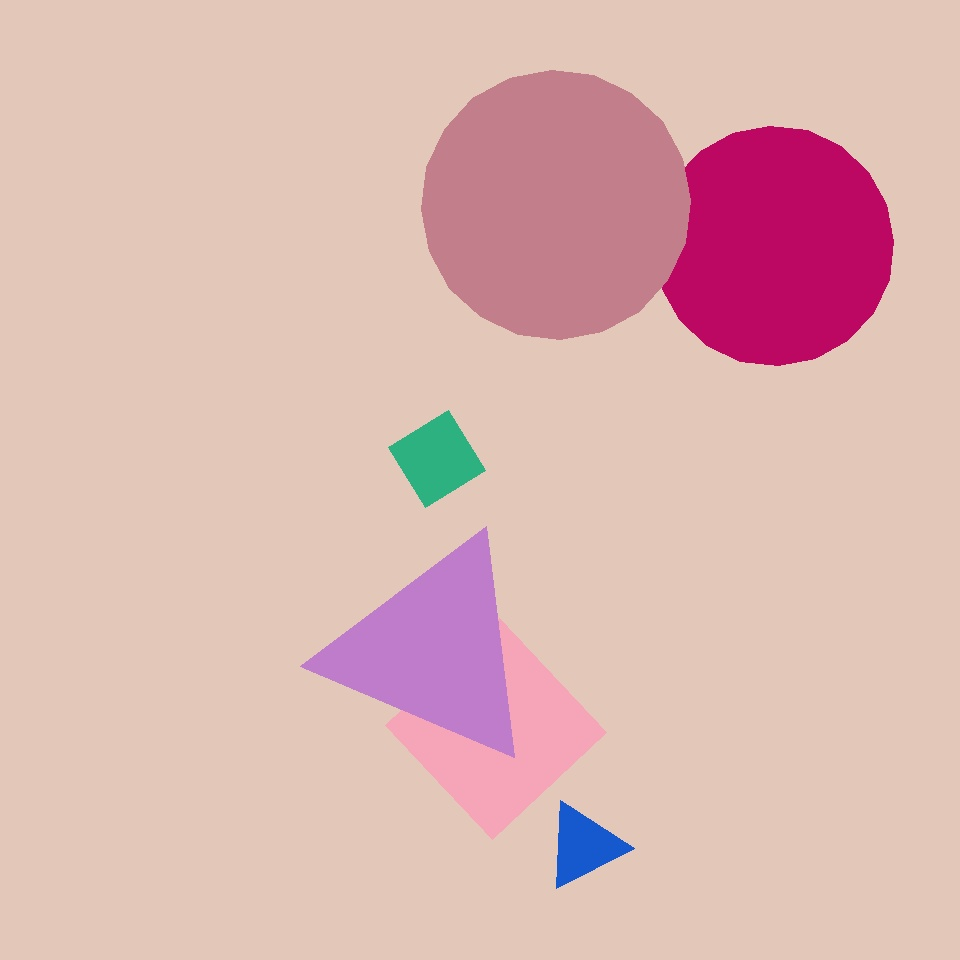circle: (327, 534, 541, 766), (545, 802, 623, 890)
square: (517, 105, 842, 429), (386, 618, 606, 840), (388, 410, 486, 508)
triangle: (167, 342, 524, 699), (422, 70, 691, 340), (420, 658, 671, 909), (654, 126, 894, 366)
